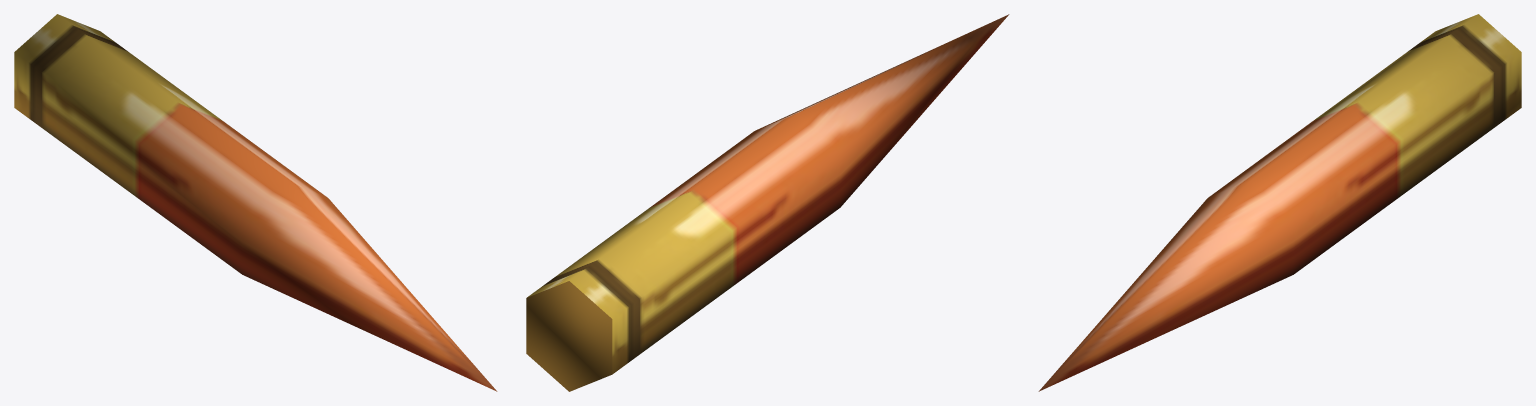
File: zhidan.FBX
3 views of the same model, side by side, from view 1: azimuth 30°, elevation 25°; view 2: azimuth 150°, elevation 25°; view 3: azimuth 330°, elevation 25° (orthographic).
Visible parts, largest first — view 1: zhidan; view 2: zhidan; view 3: zhidan.
Part boxes in pixels (x1,y1,x2,y2): zhidan: (14,14,497,391); zhidan: (526,14,1009,391); zhidan: (1038,14,1521,391).
Size of the model in its own units: 0.0746 by 0.092 by 0.6607.
